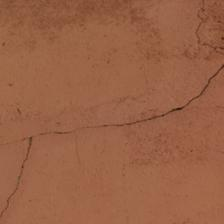Crack: (0, 145, 73, 219), (0, 77, 72, 147)
